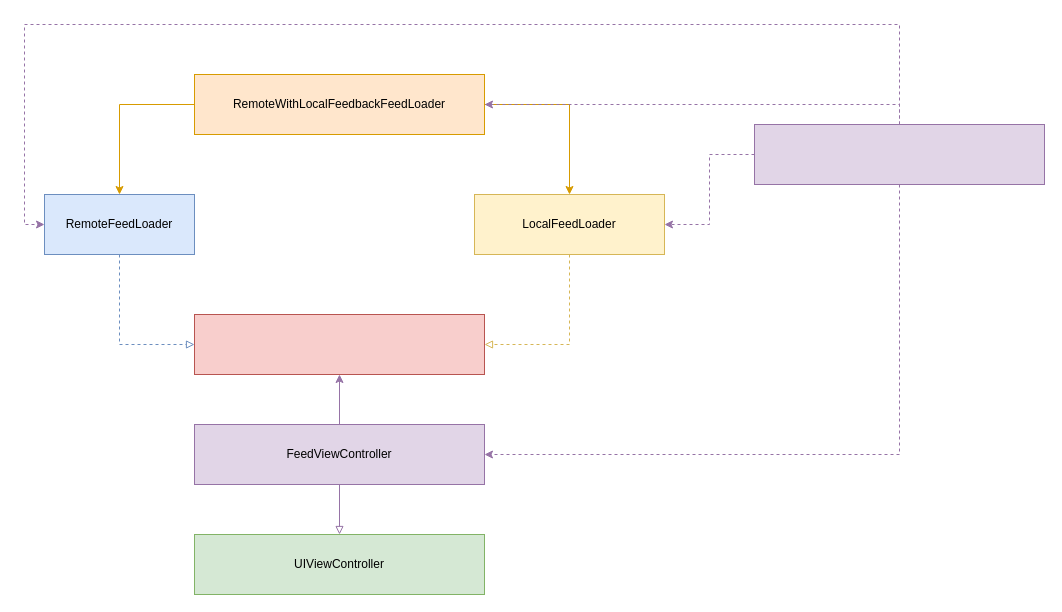
Image size: 1062x612. Some labels were removed from this diagram. Here are the shapes that lost their labels. From the top down, the box of each, then its label:
(754, 124, 1044, 184): Feed Assembler/Builder/Factory
(194, 314, 484, 374): <FeedLoader>
